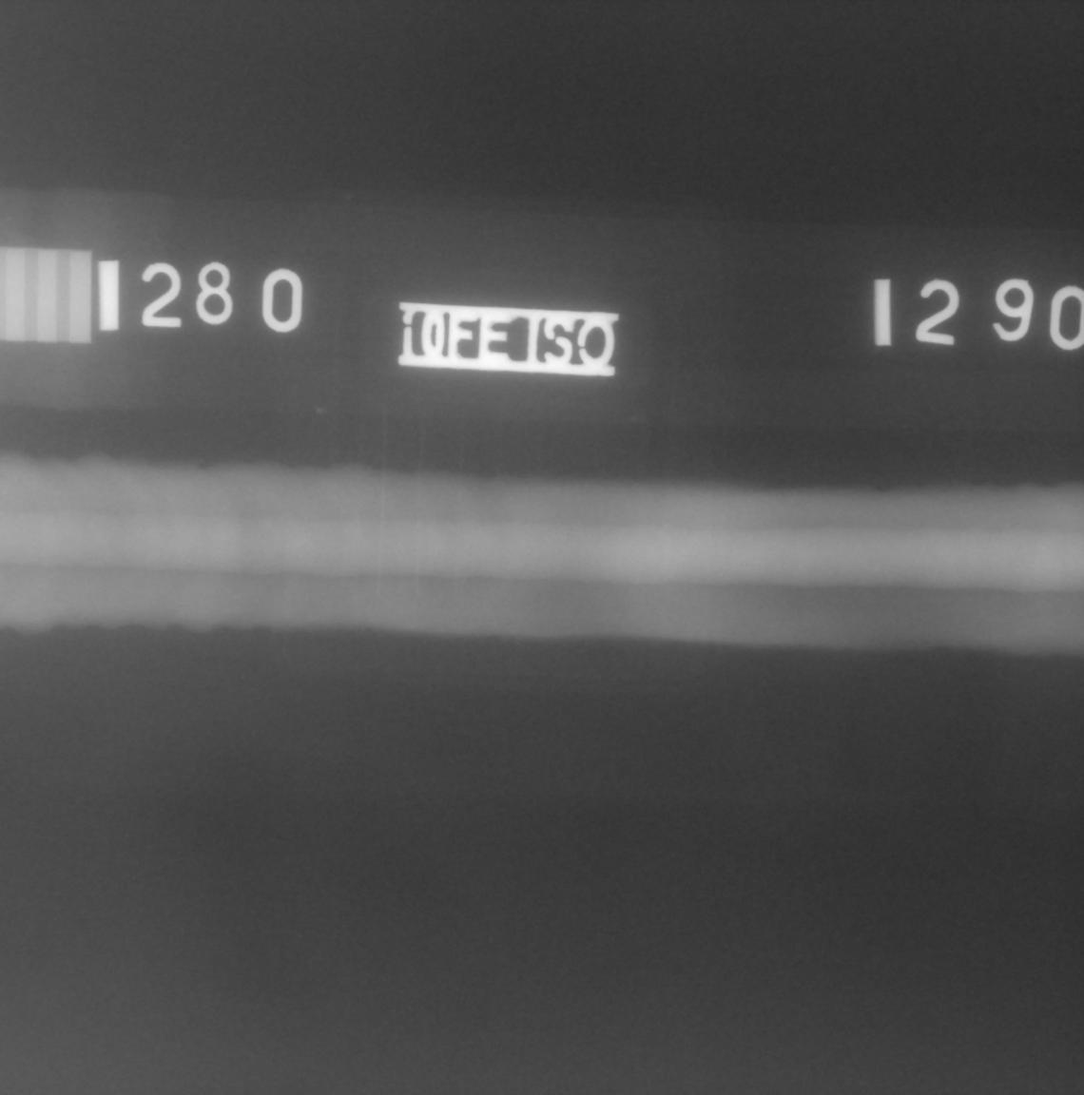Pore/Porosity: (114, 509, 121, 516), (103, 508, 111, 513)
